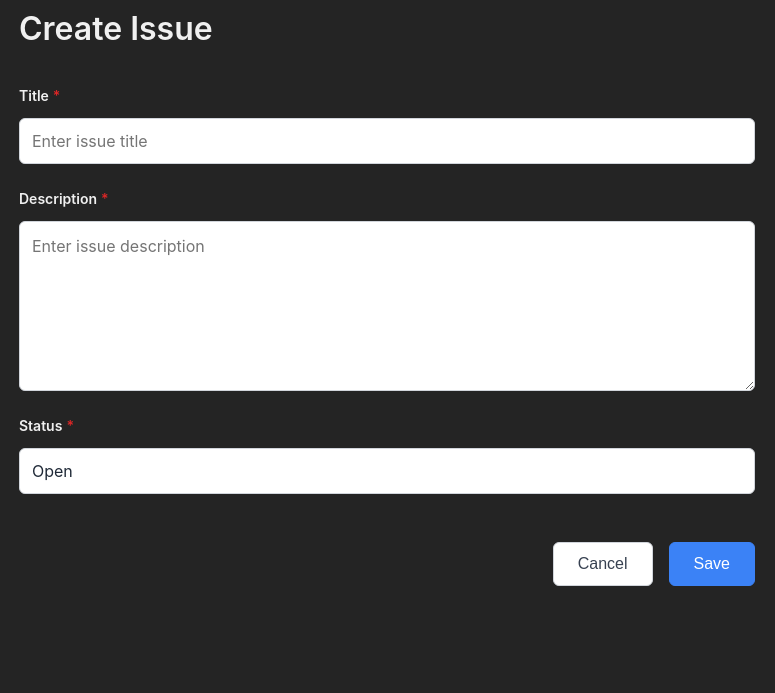
CreateIssuePage › API errors › clears error when dismiss button is clicked
Type "Test Issue" into the field labelled "Title*".
click(387, 141); type("Test Issue")  # box x1=19 y1=118 x2=755 y2=164
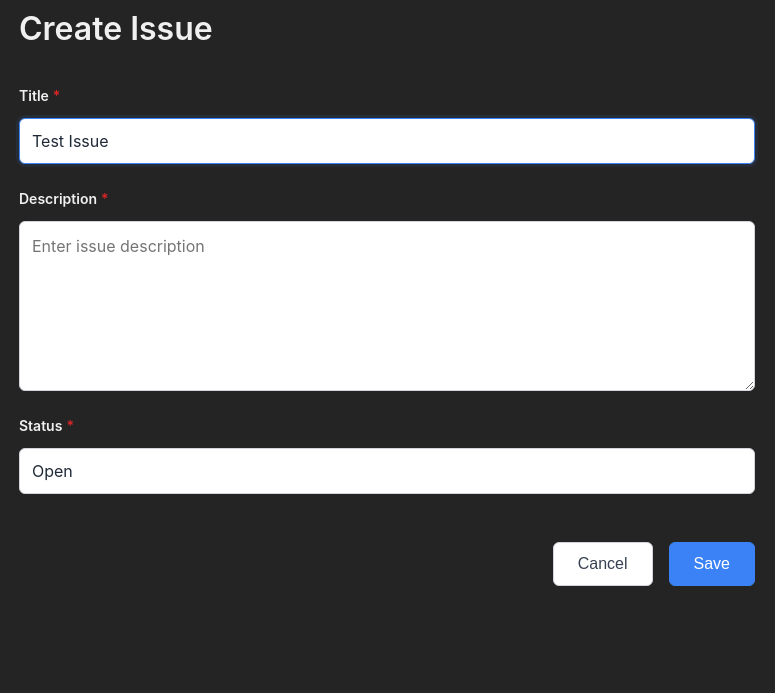
Type "Test Description" into the text box labelled "Description*".
click(387, 306); type("Test Description")  # box x1=19 y1=221 x2=755 y2=391
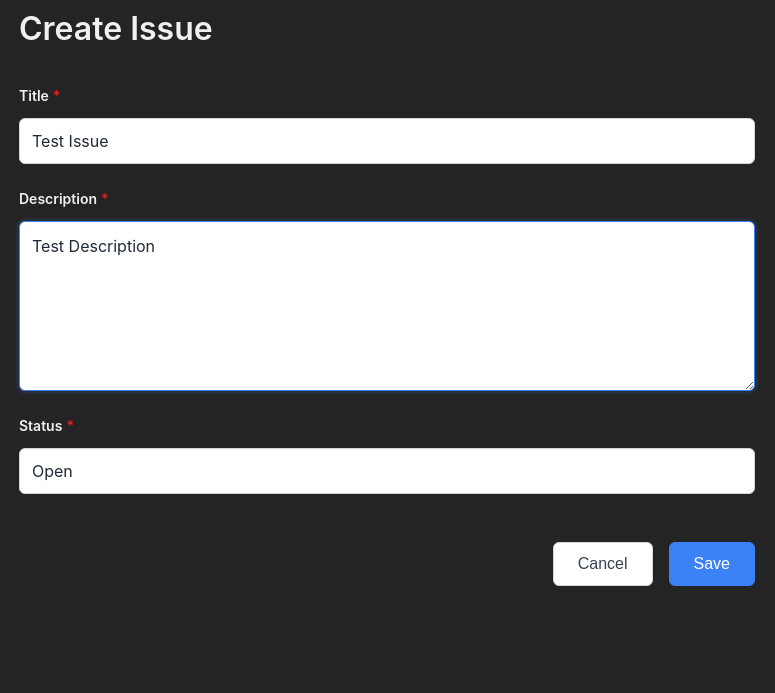
Click the button "Save".
click(712, 564)  # box x1=668 y1=542 x2=755 y2=586
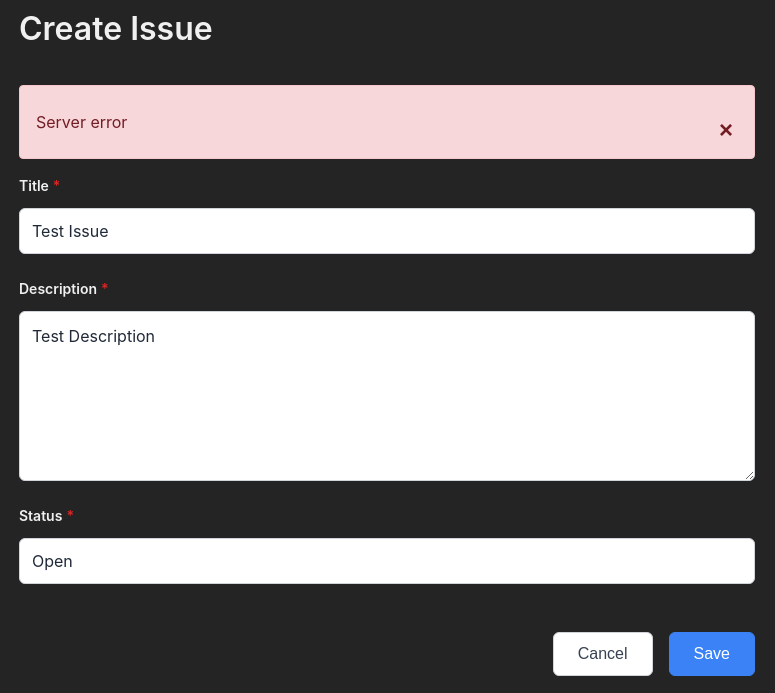
Expected: the text "Server error" is shown, x1=36 y1=112 x2=127 y2=132
Click the button named "Dismiss error".
click(726, 130)  # box x1=714 y1=118 x2=738 y2=142
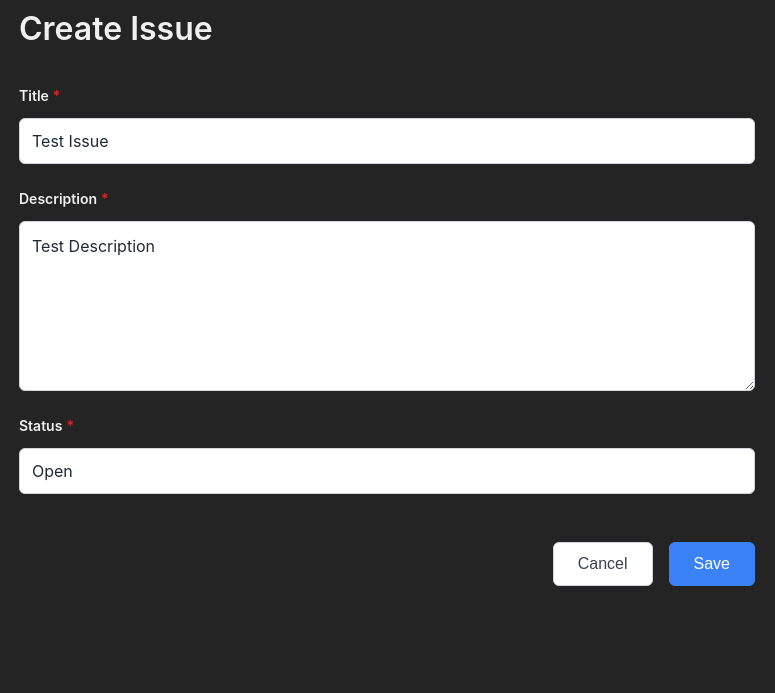
Expected: the text "Server error" is gone
